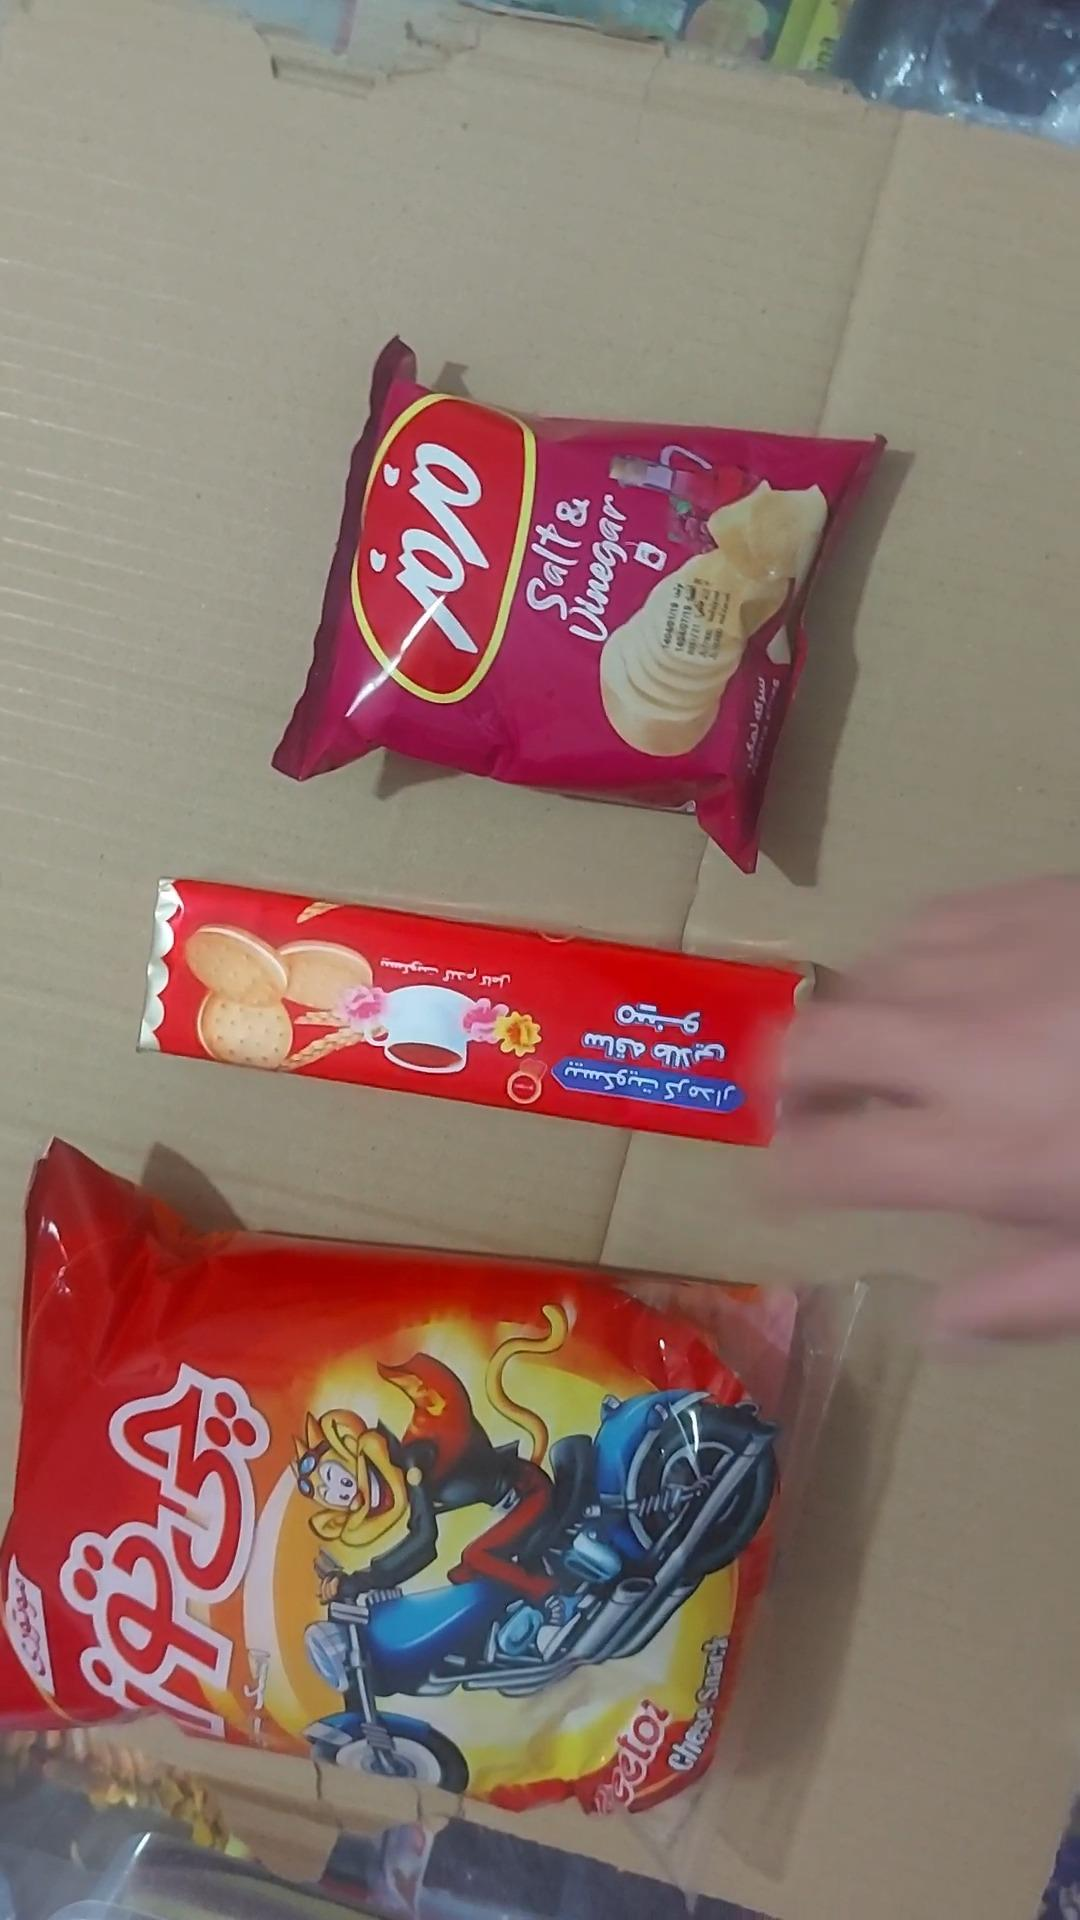Cheetoz snack 90g: (0, 1142, 862, 1892)
Maz Maz vinegar chips: (272, 339, 885, 877)
Minoo cream biscuit: (138, 880, 818, 1149)
